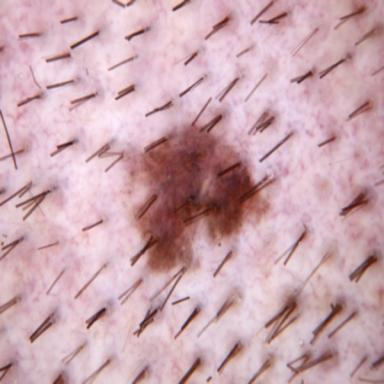nevus: (139, 126, 268, 270)
